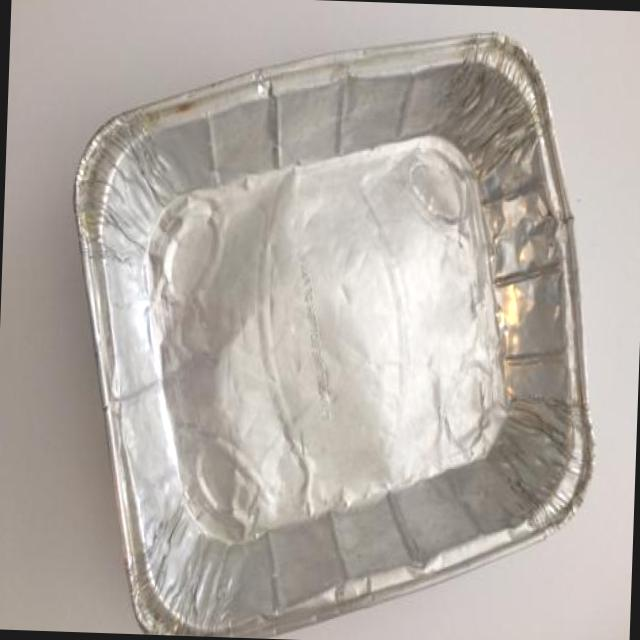kim_loai: (73, 33, 592, 638)
